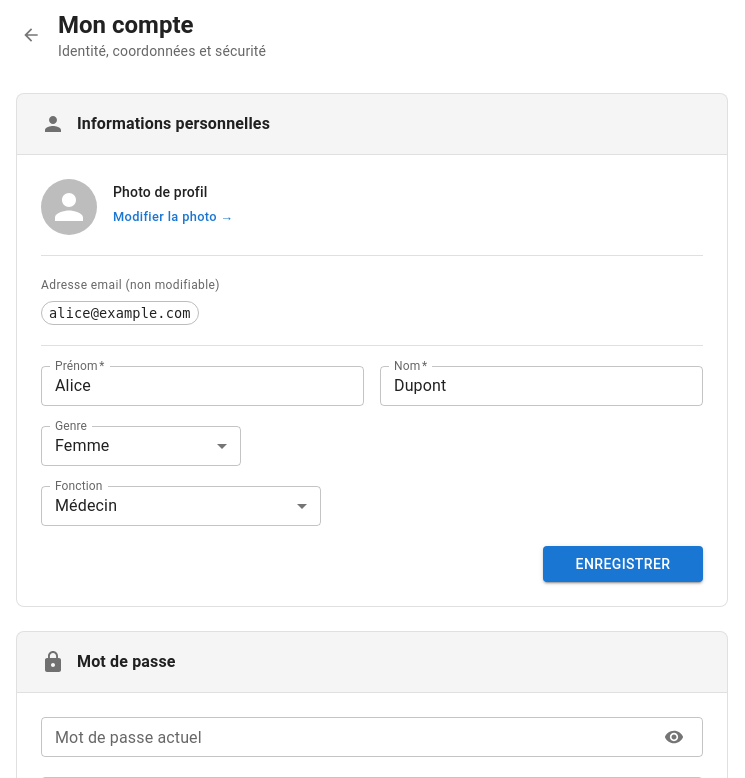
Test: ProfileAccountPage — sauvegarde infos manager › affiche l'alerte succès après sauvegarde
Click the button "Enregistrer". click: [623, 564]
box: [543, 546, 703, 582]
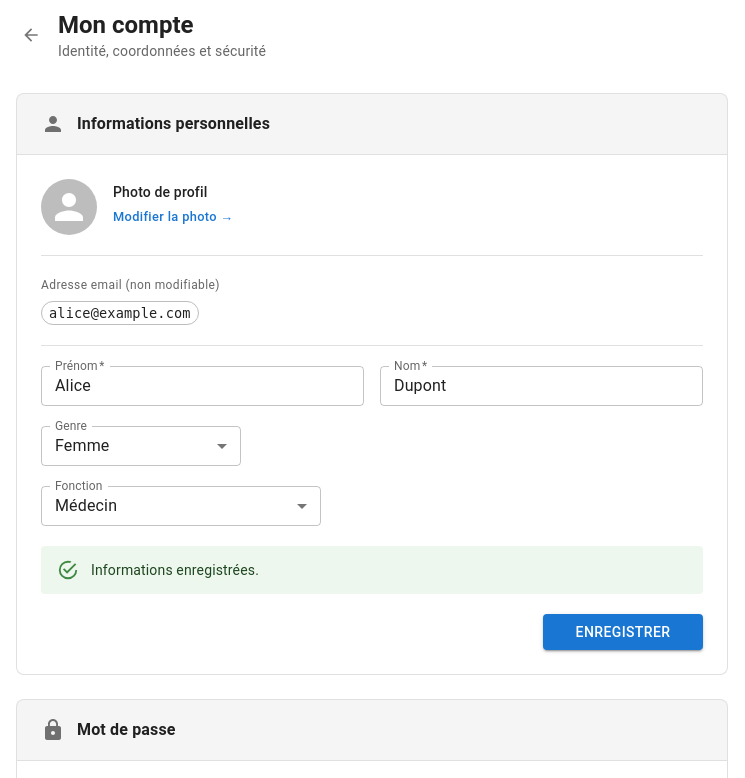
Expected: the text "Informations enregistrées." is shown, [91, 562, 259, 578]
